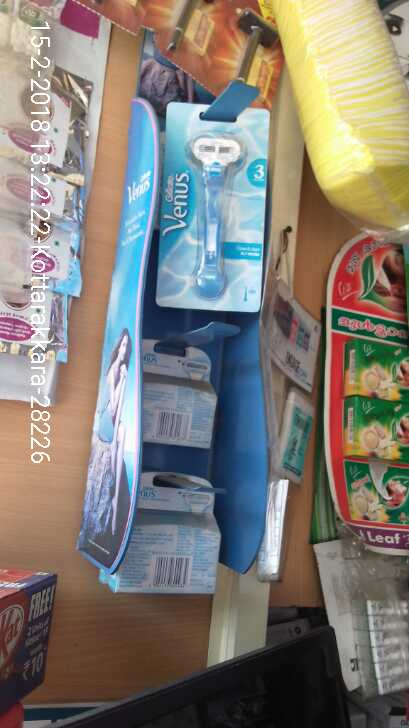venus: (159, 97, 270, 313)
